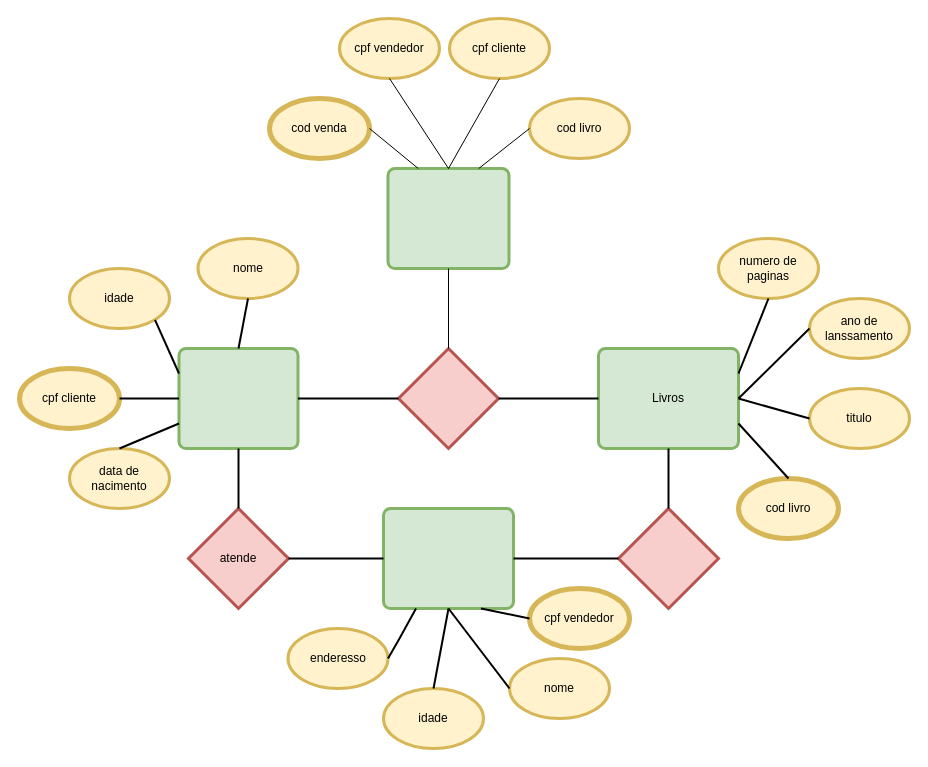
This 928x767 diagram has some shape labels left out. Here are the shapes that lost their labels. From the top down, the centre of each, then its label:
At point 448,218: "venda".
At point 238,398: "cliente".
At point 448,398: "compra".
At point 448,558: "vendedor".
At point 668,558: "vende".
